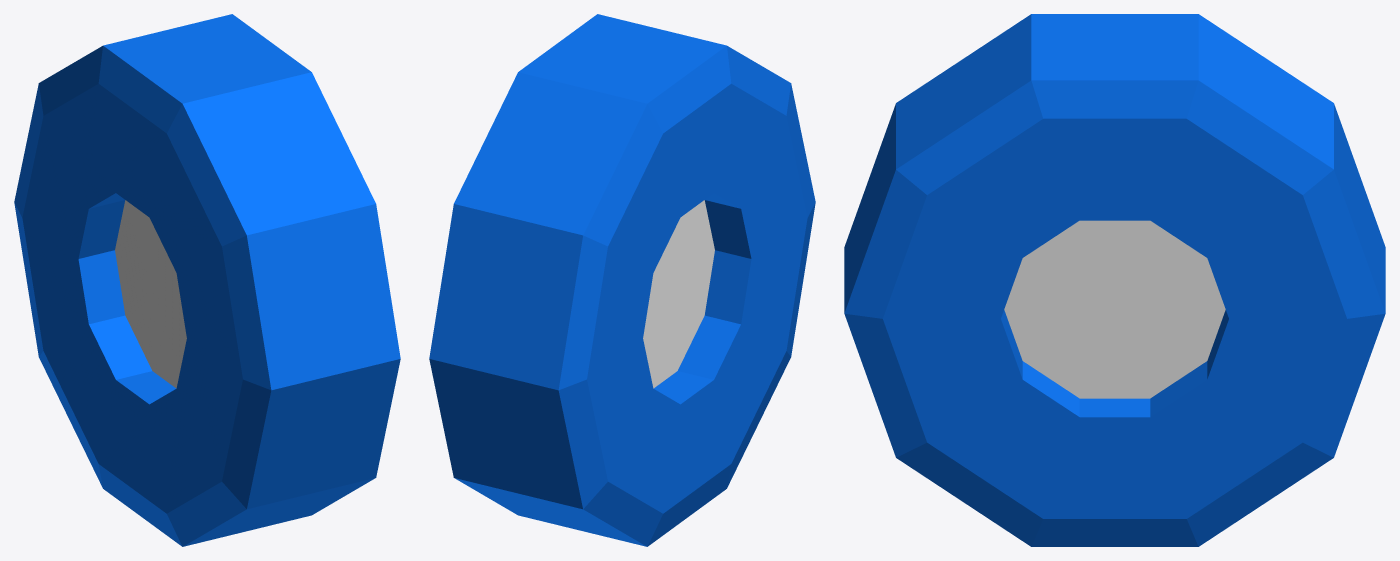
The model's file is wheel.gltf.
3 views of the same model, side by side, from view 1: azimuth 30°, elevation 25°; view 2: azimuth 150°, elevation 25°; view 3: azimuth 270°, elevation 25° (orthographic). The views are drawn at different scales.
Parts seen in each view (by area): view 1: Jeep; view 2: Jeep; view 3: Jeep.
Boxes of the visible parts, box(x1,y1,x2,y2) form: Jeep: box(14, 14, 400, 546); Jeep: box(429, 14, 815, 546); Jeep: box(844, 14, 1385, 546).
Bounding box in the file's own units: 0.3265 × 0.9247 × 0.9723.
